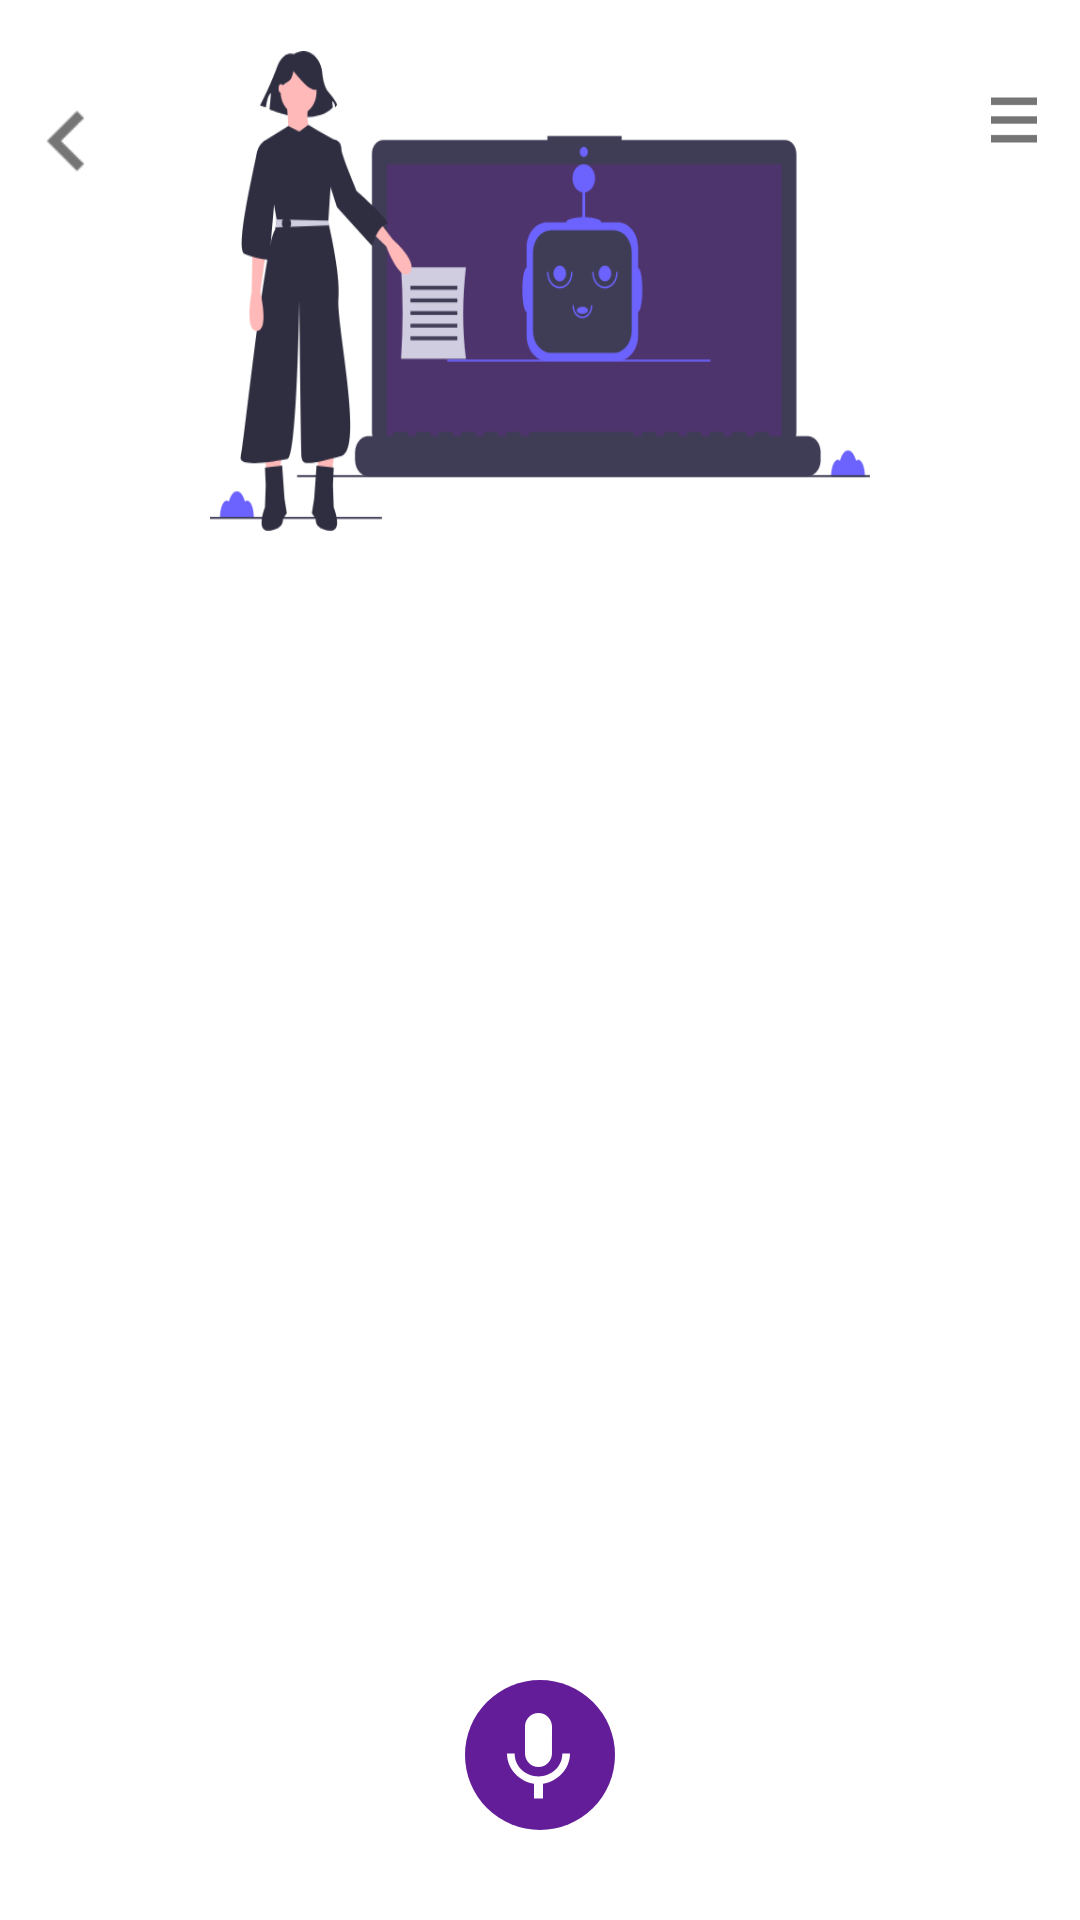

Icon bounding boxes for this 1080 × 1920 phone screenshot, format bbox=[x1, y1, x2, y2]:
menu: bbox=[991, 97, 1037, 143]
